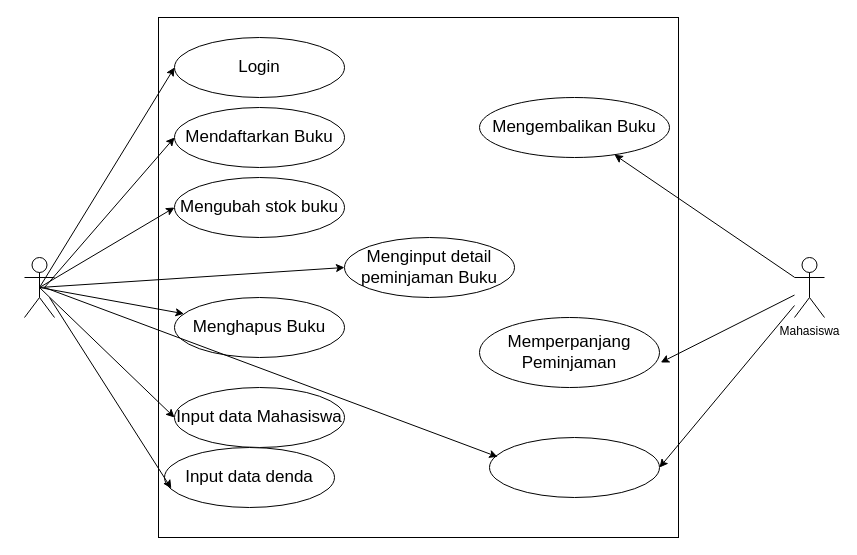
This 857x555 diagram has some shape labels left out. The centre of each missing label's shape, as x and y in pixels:
Melihat Buku: the point at 574,467
Petugas: the point at 39,287
